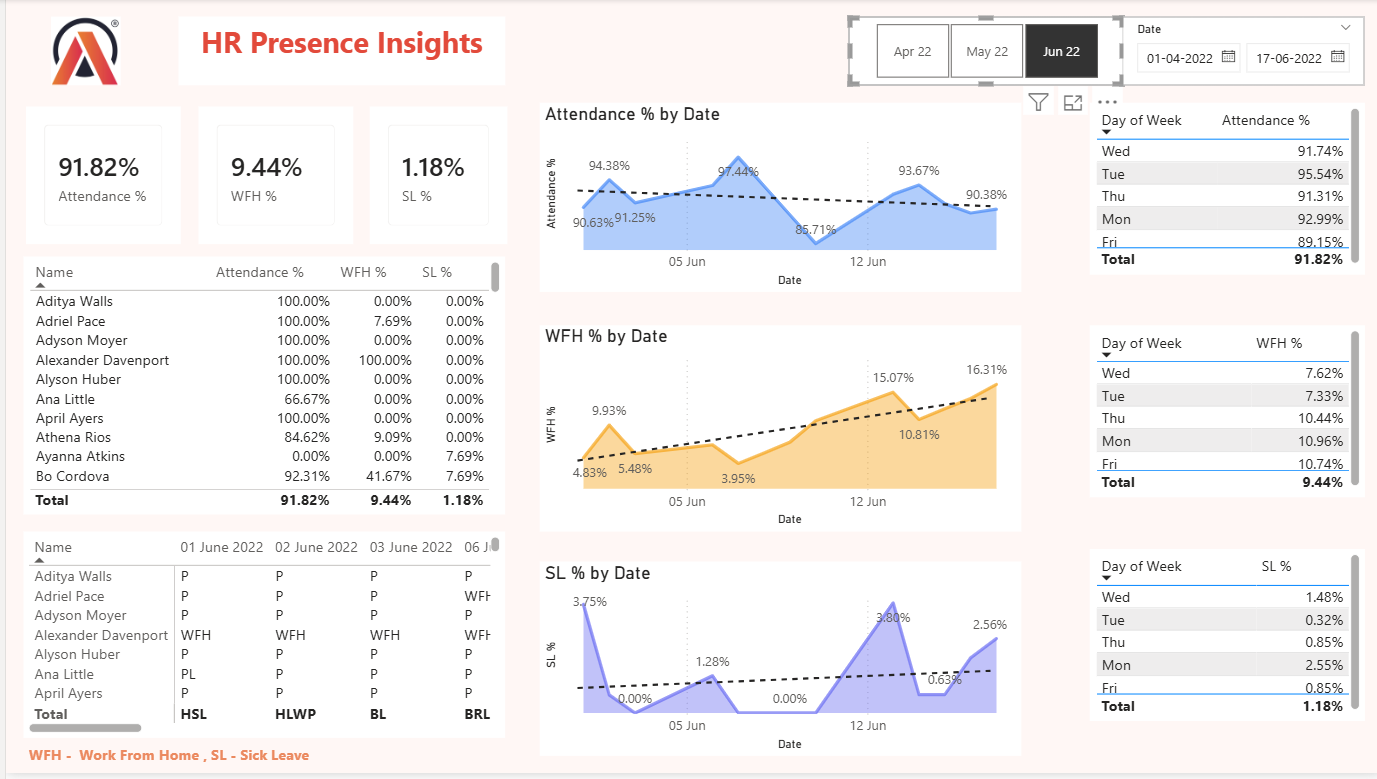

This screenshot's page, from the dashboard's own definition file:
{"tool":"powerbi","page":{"name":"Page 1","canvas":[1280,720],"ordinal":0},"visuals":[{"type":"slicer","fields":{"Values":["Final Data.Month"]},"box":[784,16,256,64],"z":0,"group":"g4"},{"type":"tableEx","fields":{"Values":["Final Data.Day of Week","Measures (2).Presence %"]},"box":[1008,96,256,160],"z":0},{"type":"cardVisual","fields":{"Data":["Measures (2).Presence %"]},"box":[18.1,100.5,144,128],"z":0,"group":"g2"},{"type":"slicer","fields":{"Values":["Final Data.Date"]},"box":[1040,16,224,64],"z":1000,"group":"g4"},{"type":"tableEx","fields":{"Values":["Final Data.Day of Week","Measures (2).WFH %"]},"box":[1008,304,256,160],"z":1000},{"type":"group","id":"g1","title":"Group 1","box":[16,16,448,64],"z":2000},{"type":"cardVisual","fields":{"Data":["Measures (2).WFH %"]},"box":[178.1,100.5,144,128],"z":2000,"group":"g2"},{"type":"cardVisual","fields":{"Data":["Measures (2).SL %"]},"box":[338.1,100.5,128,128],"z":3000,"group":"g2"},{"type":"tableEx","fields":{"Values":["Final Data.Day of Week","Measures (2).SL %"]},"box":[1008,512,256,160],"z":3000},{"type":"tableEx","fields":{"Values":["Final Data.Name","Measures (2).Presence %","Measures (2).WFH %","Measures (2).SL %"]},"box":[16,240,448,240],"z":4000,"group":"g3"},{"type":"textbox","box":[16,688,448,32],"z":4000},{"type":"textbox","box":[160,16,304,64],"z":5000,"group":"g1"},{"type":"group","id":"g2","title":"Group 2","box":[18.1,100.5,448,128],"z":5000},{"type":"group","id":"g3","title":"Group 3","box":[16,240,448,448],"z":6000},{"type":"pivotTable","fields":{"Rows":["Final Data.Name"],"Values":["Min(Final Data.Value)"],"Columns":["Final Data.Date"]},"box":[16,496,448,192],"z":6000,"group":"g3"},{"type":"areaChart","fields":{"Category":["Final Data.Date"],"Y":["Measures (2).Presence %"]},"box":[496,96,448,176],"z":7000},{"type":"areaChart","fields":{"Category":["Final Data.Date"],"Y":["Measures (2).WFH %"]},"box":[496,304,448,192],"z":8000},{"type":"areaChart","fields":{"Category":["Final Data.Date"],"Y":["Measures (2).SL %"]},"box":[496,523.1,448,180.9],"z":9000},{"type":"group","id":"g4","title":"Group 4","box":[784,16,480,64],"z":10000},{"type":"image","box":[16,16,116.1,64],"z":14000,"group":"g1"}]}

Visuals, with their boxes in screenshot pixels (x1, y1, x2, y2), scaled from the page's 1280x720 canvas onto the 1377x779 screenshot:
slicer - Final Data.Month: 843 17 1119 87
tableEx - Final Data.Day of Week x Measures (2).Presence %: 1084 104 1360 277
cardVisual - Measures (2).Presence %: 19 109 174 247
slicer - Final Data.Date: 1119 17 1360 87
tableEx - Final Data.Day of Week x Measures (2).WFH %: 1084 329 1360 502
"Group 1" group: 17 17 499 87
cardVisual - Measures (2).WFH %: 192 109 347 247
cardVisual - Measures (2).SL %: 364 109 501 247
tableEx - Final Data.Day of Week x Measures (2).SL %: 1084 554 1360 727
tableEx - Final Data.Name x Measures (2).Presence %: 17 260 499 519
textbox: 17 744 499 778
textbox: 172 17 499 87
"Group 2" group: 19 109 501 247
"Group 3" group: 17 260 499 744
pivotTable - Final Data.Name x Min(Final Data.Value): 17 537 499 744
areaChart - Final Data.Date x Measures (2).Presence %: 534 104 1016 294
areaChart - Final Data.Date x Measures (2).WFH %: 534 329 1016 537
areaChart - Final Data.Date x Measures (2).SL %: 534 566 1016 762
"Group 4" group: 843 17 1360 87
image: 17 17 142 87
